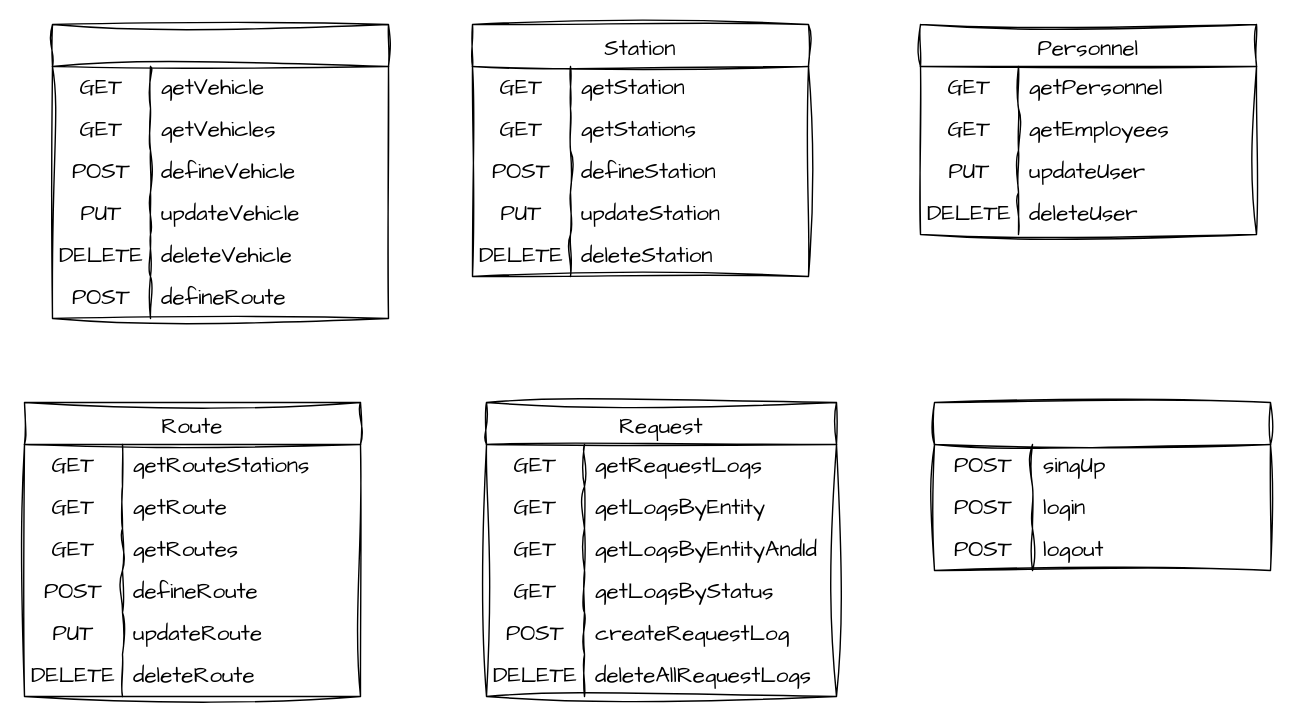
This 1295x721 diagram has some shape labels left out. The shapes that lost their labels are listed below. From the top down, each one's box as (x1, y1, x2, y2) in pixels, then its label:
(51, 23, 388, 318): PublicTransport
(933, 401, 1270, 570): Auth
